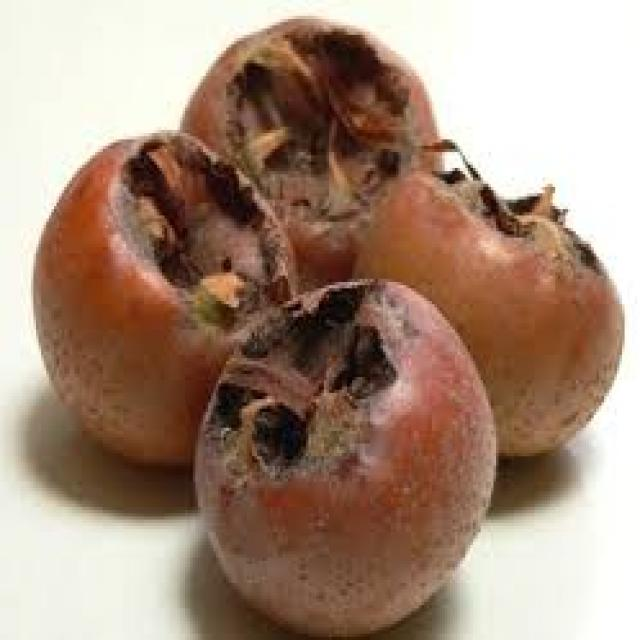organic waste: (190, 272, 496, 637), (31, 127, 298, 469), (344, 136, 622, 463), (175, 12, 439, 292)
